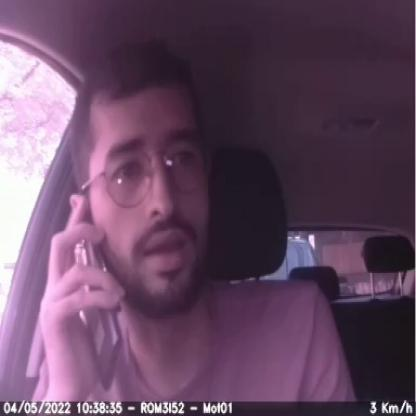phone: (69, 228, 126, 388)
